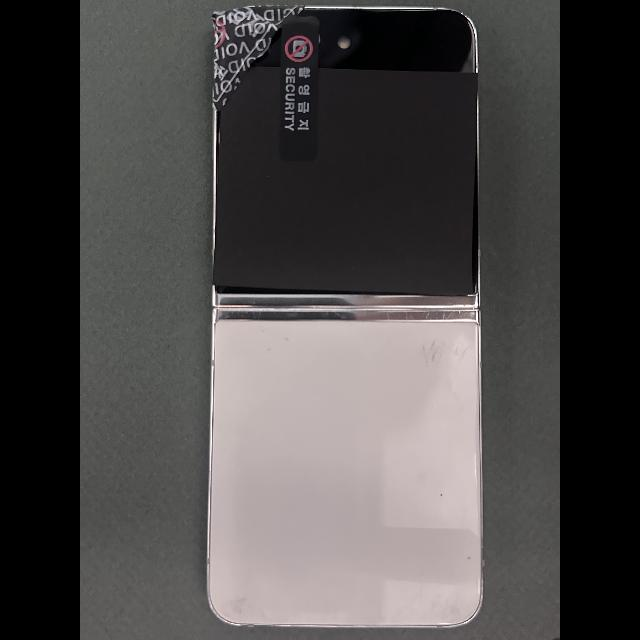phone: (206, 7, 484, 628)
sticker: (211, 5, 305, 111), (280, 15, 320, 162)
